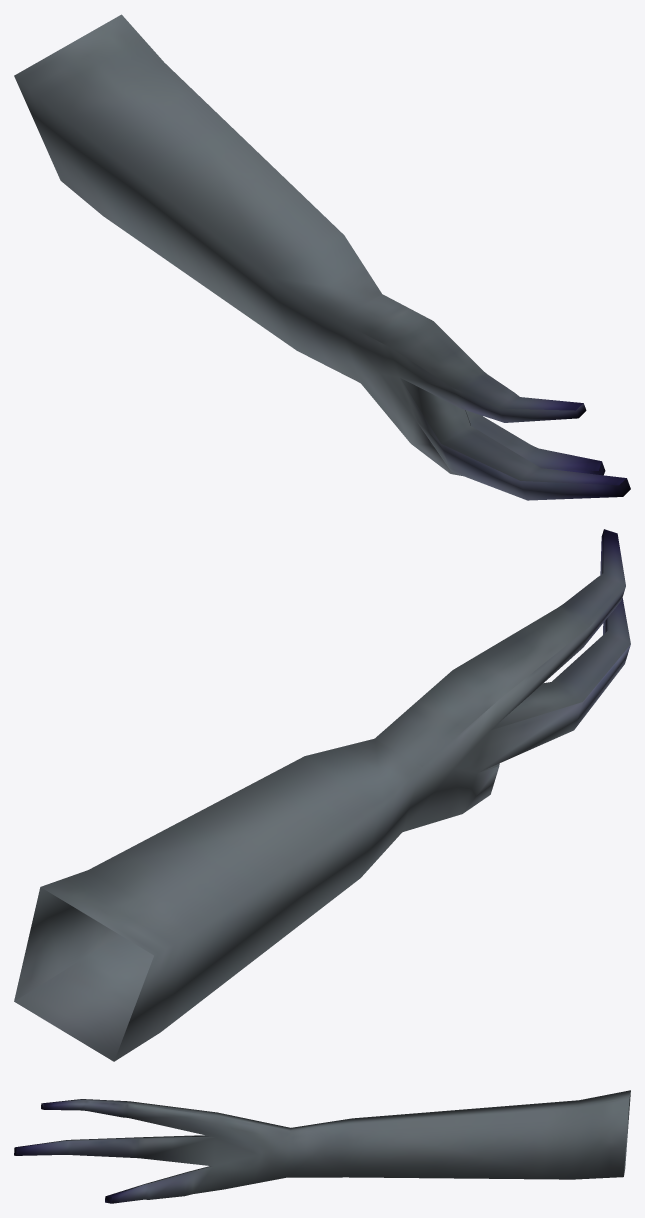
The model's file is alienarm_l.fbx.
3 views of the same model, one above another, from view 1: azimuth 30°, elevation 25°; view 2: azimuth 150°, elevation 25°; view 3: azimuth 270°, elevation 25° (orthographic). The views are drawn at different scales.
Parts seen in each view (by area): view 1: alienarm_l; view 2: alienarm_l; view 3: alienarm_l.
Boxes of the visible parts, x1,y1,x2,y2 form: alienarm_l: (14,14,630,500); alienarm_l: (14,529,630,1061); alienarm_l: (14,1090,630,1203).
Size of the model in its own units: 0.0785 by 0.085 by 0.4511.
